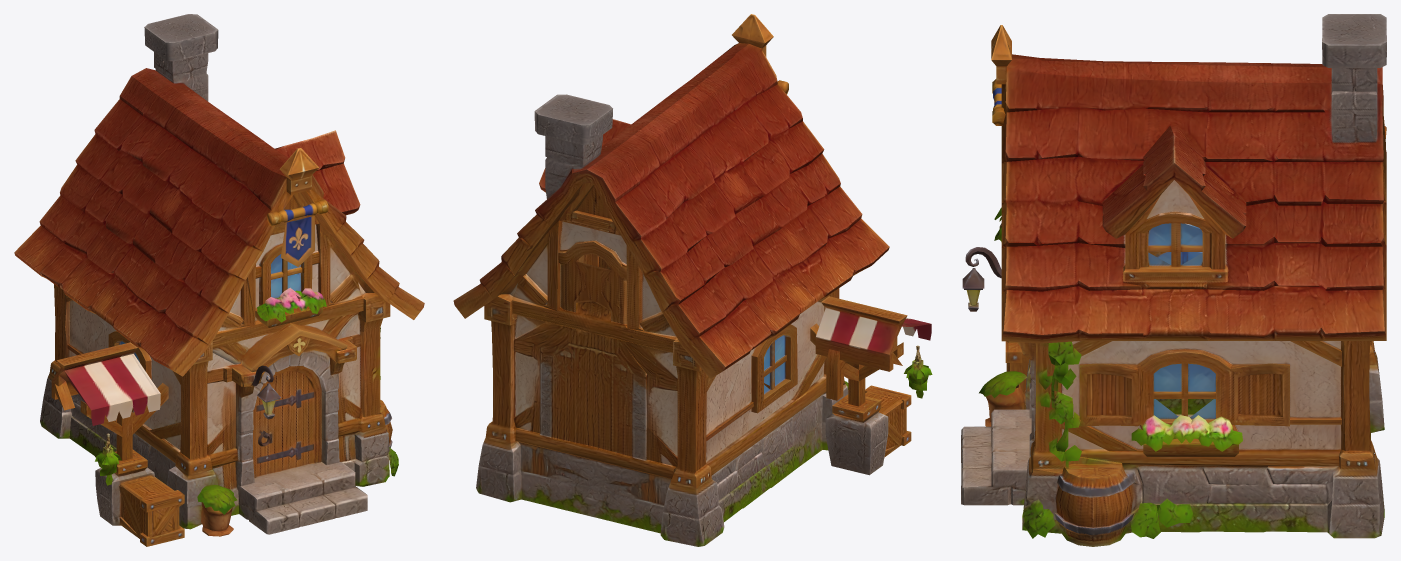
Rendered from house-banner.glb.
3 renders of one model, left to right at view 1: azimuth 30°, elevation 25°; view 2: azimuth 150°, elevation 25°; view 3: azimuth 270°, elevation 25°, orthographic. The views are drawn at different scales.
Parts seen in each view (by area): view 1: house-banner; view 2: house-banner; view 3: house-banner.
Part boxes in pixels (bbox=[...]): house-banner: bbox=[14, 14, 424, 546]; house-banner: bbox=[453, 14, 932, 546]; house-banner: bbox=[961, 14, 1386, 546].
Size of the model in its own units: 15.15 by 17 by 14.28.
Materials: 1 (1 with a texture image).
